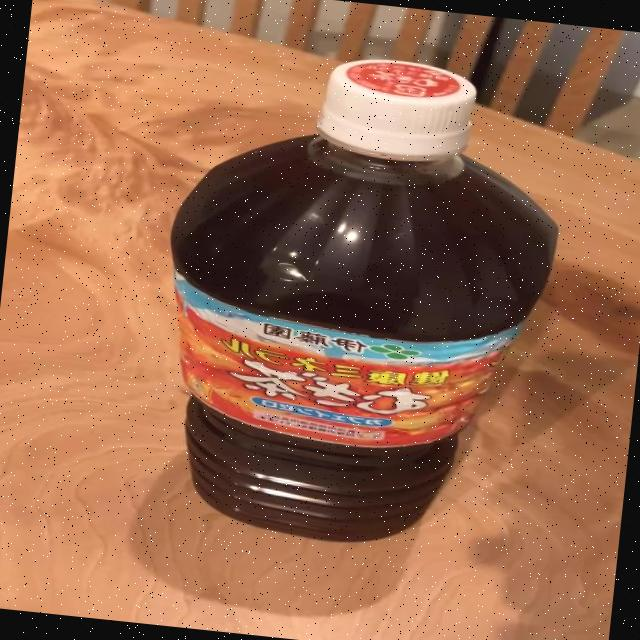bottle: (136, 36, 580, 566)
cap: (305, 48, 497, 170)
label: (155, 292, 538, 457)
